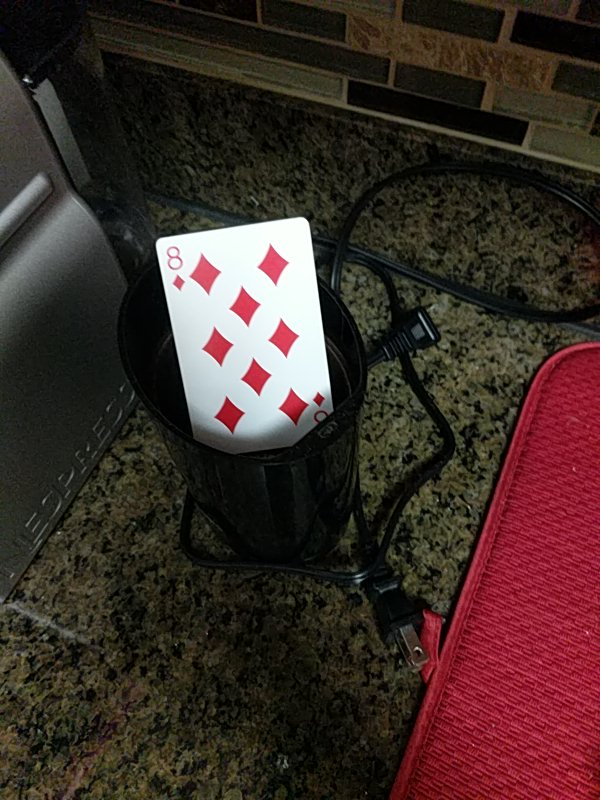Diamonds: (150, 217, 339, 451)
